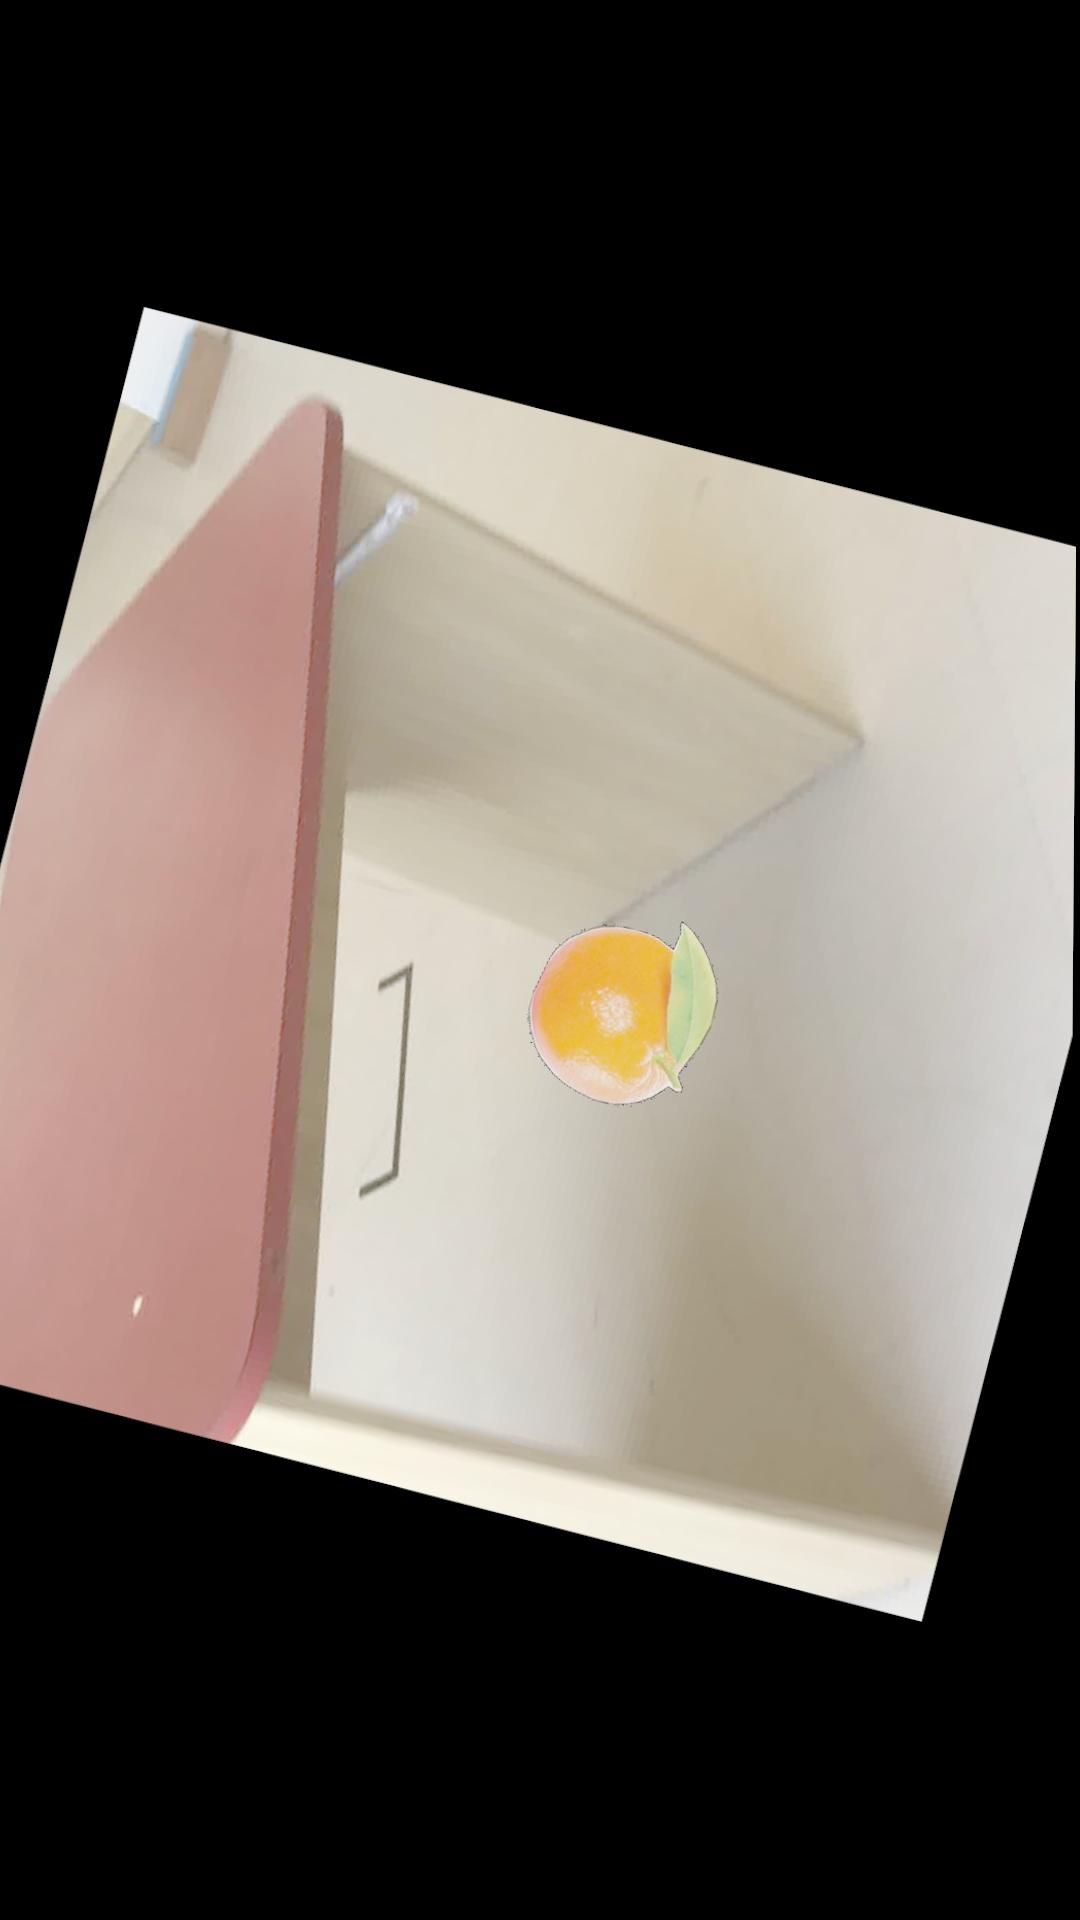orange: (529, 918, 719, 1102)
